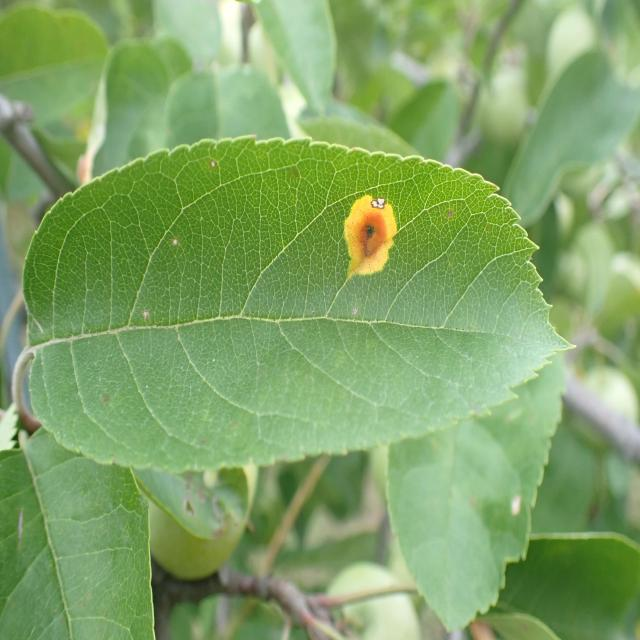Rust: (322, 146, 401, 298)
